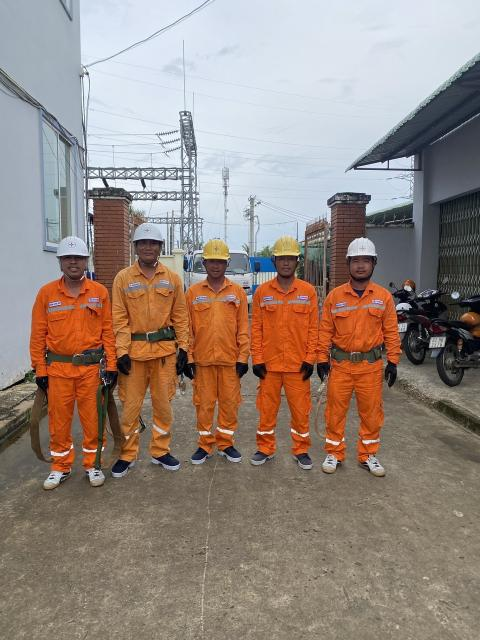gloves: (314, 358, 334, 385), (384, 359, 401, 390), (248, 360, 274, 380), (115, 355, 136, 379), (180, 359, 200, 383), (232, 358, 251, 380), (32, 371, 52, 390), (104, 368, 119, 388), (175, 348, 187, 372), (300, 361, 314, 381)
harness: (41, 339, 112, 367), (328, 334, 390, 365), (120, 320, 182, 345)
helmet: (128, 214, 168, 254), (193, 237, 241, 266), (52, 232, 92, 265), (341, 233, 380, 263), (270, 235, 307, 263)
shoes: (33, 465, 77, 488), (106, 449, 137, 476), (149, 449, 182, 474), (356, 456, 388, 479), (290, 444, 316, 471), (215, 441, 245, 464), (320, 450, 345, 477), (82, 465, 110, 489), (248, 444, 276, 468), (188, 440, 212, 467)
